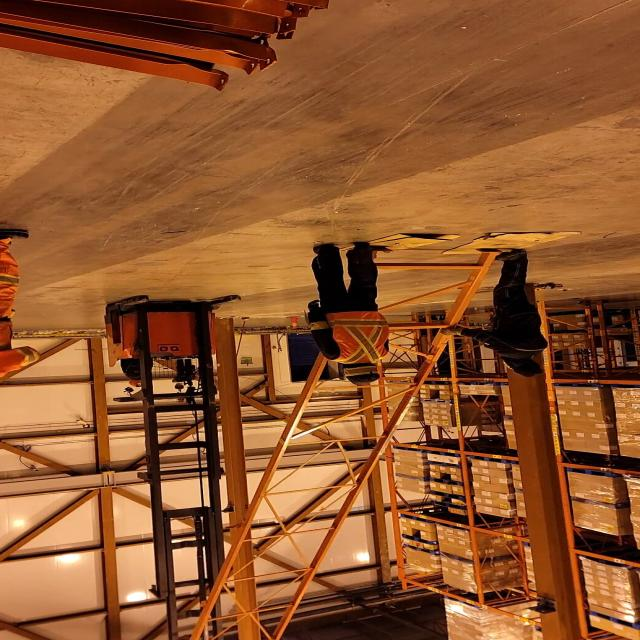forklift: (99, 292, 248, 482)
human: (438, 248, 551, 378), (301, 238, 396, 387), (0, 222, 46, 408), (110, 358, 180, 392)
objectofinterest: (176, 245, 512, 640), (440, 232, 586, 256), (333, 232, 462, 256)
